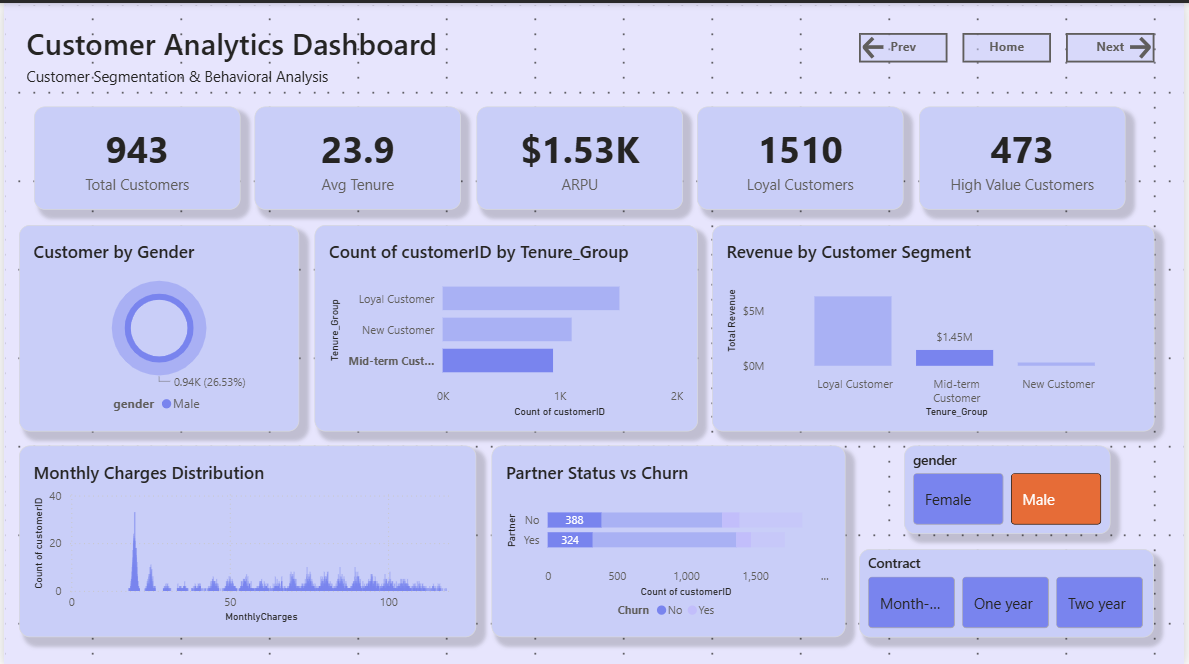

This screenshot's page, from the dashboard's own definition file:
{"tool":"powerbi","page":{"name":"Customer Analytics","canvas":[1280,720],"ordinal":1},"visuals":[{"type":"textbox","box":[20,16,544,64],"z":0},{"type":"textbox","box":[20,64,496,32],"z":1000},{"type":"card","fields":{"Values":["fact_churn.Total Customers"]},"box":[32,112,224,112],"z":2000},{"type":"card","fields":{"Values":["fact_churn.Avg Tenure"]},"box":[272,112,224,112],"z":3000},{"type":"card","fields":{"Values":["fact_churn.ARPU"]},"box":[512,112,224,112],"z":4000},{"type":"card","fields":{"Values":["fact_churn.Loyal Customers"]},"box":[752,112,224,112],"z":5000},{"type":"card","fields":{"Values":["fact_churn.High Value Customers"]},"box":[992,112,224,112],"z":6000},{"type":"donutChart","title":"Customer by Gender","fields":{"Category":["dim_customer.gender"],"Y":["CountNonNull(fact_churn.customerID)"]},"box":[16,240,304,224],"z":7000},{"type":"clusteredBarChart","fields":{"Category":["fact_churn.Tenure_Group"],"Y":["CountNonNull(fact_churn.customerID)"]},"box":[336,240,416,224],"z":8000},{"type":"clusteredColumnChart","title":"Revenue by Customer Segment","fields":{"Category":["fact_churn.Tenure_Group"],"Y":["fact_churn.Total Revenue"]},"box":[768,240,480,224],"z":9000},{"type":"columnChart","title":"Monthly Charges Distribution","fields":{"Category":["fact_churn.MonthlyCharges"],"Y":["CountNonNull(fact_churn.customerID)"]},"box":[16,480,496,208],"z":10000},{"type":"barChart","title":"Partner Status vs Churn","fields":{"Category":["dim_customer.Partner"],"Y":["CountNonNull(fact_churn.customerID)"],"Series":["fact_churn.Churn"]},"box":[528,480,384,208],"z":11000},{"type":"advancedSlicerVisual","fields":{"Values":["dim_customer.gender"]},"box":[976,480,224,96],"z":12000},{"type":"advancedSlicerVisual","fields":{"Values":["dim_contract.Contract"]},"box":[928,592,320,96],"z":13000},{"type":"actionButton","box":[1152,32,96,32],"z":14000},{"type":"actionButton","box":[928,32,96,32],"z":15000},{"type":"actionButton","box":[1040,32,96,32],"z":16000}]}

Visuals, with their boxes in screenshot pixels (x1, y1, x2, y2), scaled from the page's 1280x720 canvas onto the 1189x664 screenshot:
textbox: x1=19 y1=15 x2=524 y2=74
textbox: x1=19 y1=59 x2=479 y2=89
card - fact_churn.Total Customers: x1=30 y1=103 x2=238 y2=207
card - fact_churn.Avg Tenure: x1=253 y1=103 x2=461 y2=207
card - fact_churn.ARPU: x1=476 y1=103 x2=684 y2=207
card - fact_churn.Loyal Customers: x1=699 y1=103 x2=907 y2=207
card - fact_churn.High Value Customers: x1=921 y1=103 x2=1130 y2=207
"Customer by Gender" donutChart: x1=15 y1=221 x2=297 y2=428
clusteredBarChart - fact_churn.Tenure_Group x CountNonNull(fact_churn.customerID): x1=312 y1=221 x2=699 y2=428
"Revenue by Customer Segment" clusteredColumnChart: x1=713 y1=221 x2=1159 y2=428
"Monthly Charges Distribution" columnChart: x1=15 y1=443 x2=476 y2=634
"Partner Status vs Churn" barChart: x1=490 y1=443 x2=847 y2=634
advancedSlicerVisual - dim_customer.gender: x1=907 y1=443 x2=1115 y2=531
advancedSlicerVisual - dim_contract.Contract: x1=862 y1=546 x2=1159 y2=634
actionButton: x1=1070 y1=30 x2=1159 y2=59
actionButton: x1=862 y1=30 x2=951 y2=59
actionButton: x1=966 y1=30 x2=1055 y2=59
